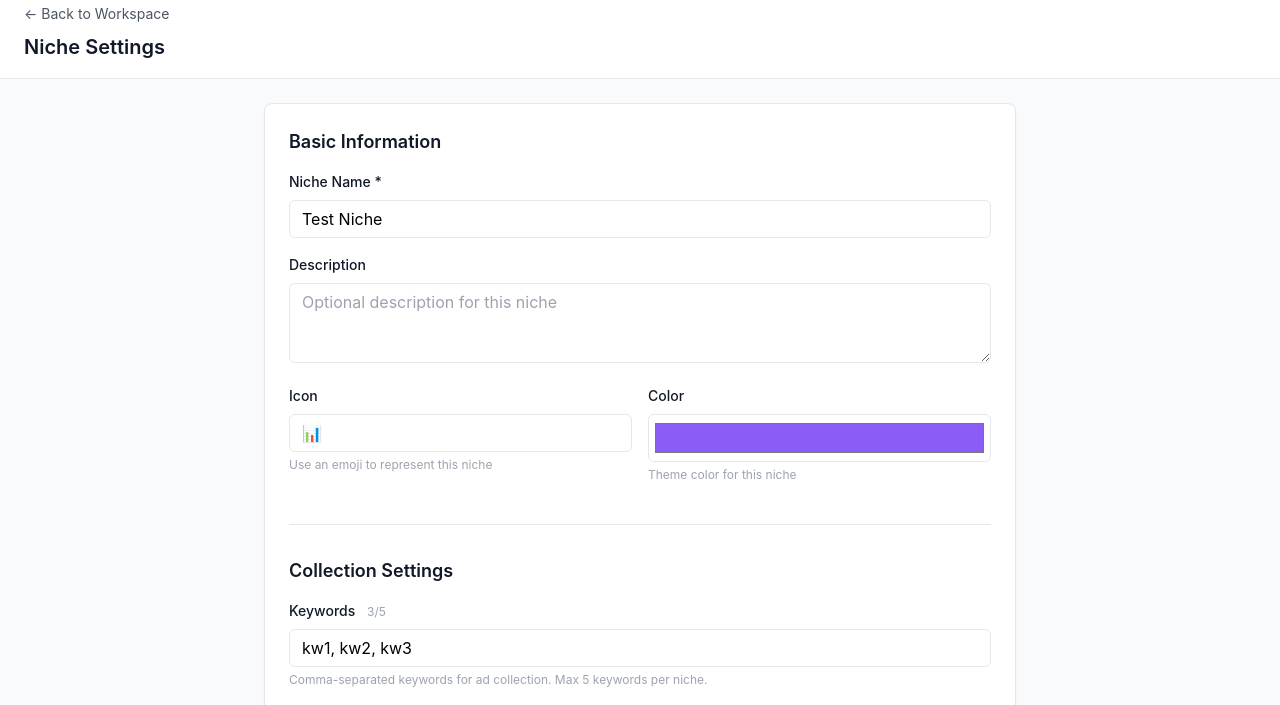
it: NicheSettingsView — keyword counter › save button is disabled when keyword count exceeds 5
Replace the text in the field with id "keywords" with "kw1, kw2, kw3, kw4, kw5, kw6": point(640, 648) top-left (289, 629), bottom-right (991, 667)
(page scrolled)
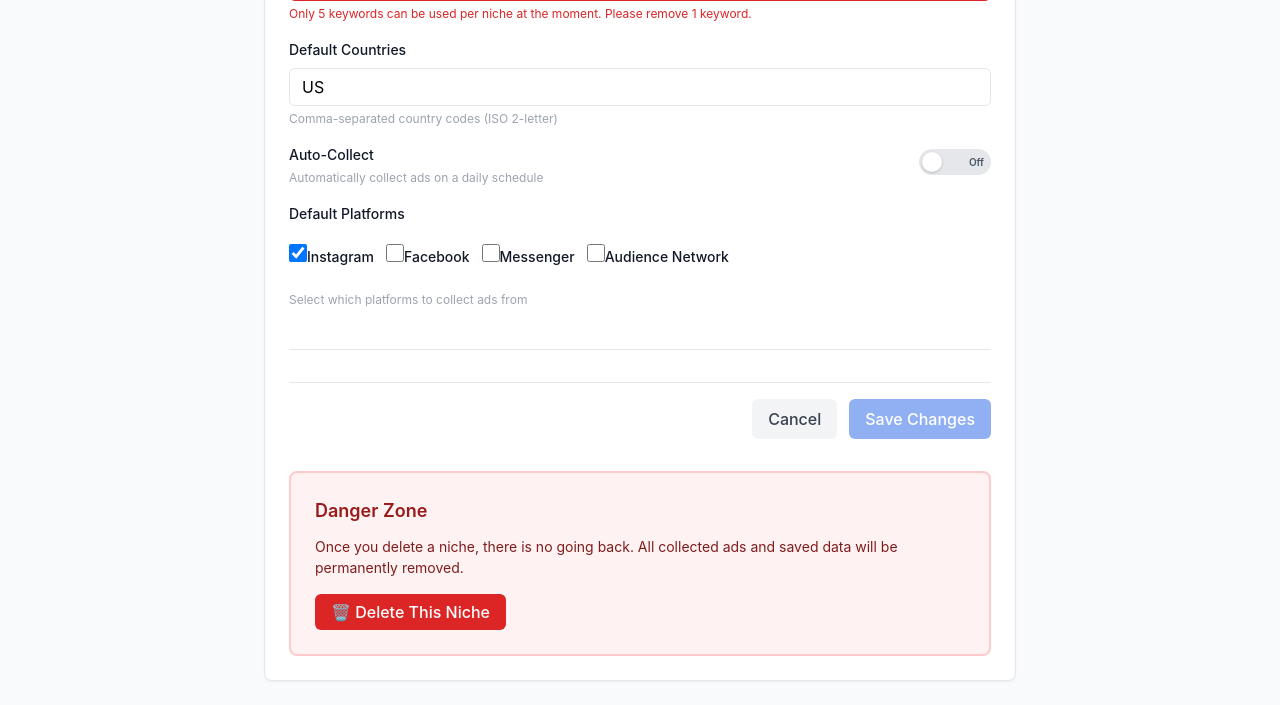
Result: the submit button is disabled at top-left (849, 399), bottom-right (991, 439)
